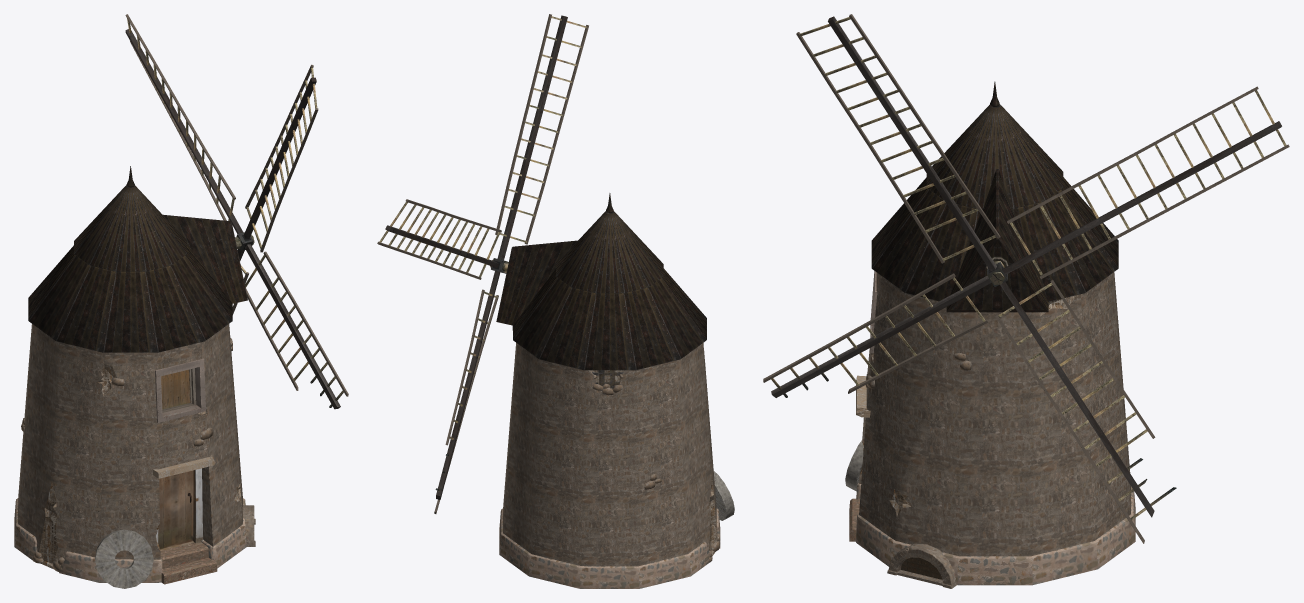
The model's file is Windmill.glb.
The picture shows the model from 3 angles, left to right: view 1: azimuth 30°, elevation 25°; view 2: azimuth 150°, elevation 25°; view 3: azimuth 270°, elevation 25°; orthographic projection. The views are drawn at different scales.
Parts seen in each view (by area): view 1: Windmill_windmill_0; view 2: Windmill_windmill_0; view 3: Windmill_windmill_0.
Boxes of the visible parts, <box> form: Windmill_windmill_0: <box>14,14,348,588</box>; Windmill_windmill_0: <box>377,14,734,588</box>; Windmill_windmill_0: <box>763,14,1289,588</box>.
Bounding box in the file's own units: 6.04 × 12.39 × 10.11.
1 material, 1 textured.
